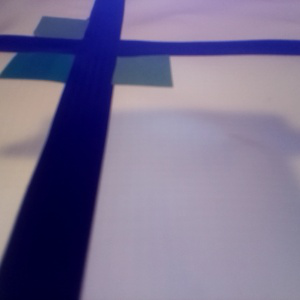bottom_left: (1, 40, 111, 83)
bottom_right: (76, 41, 173, 87)
top_left: (34, 16, 119, 53)
